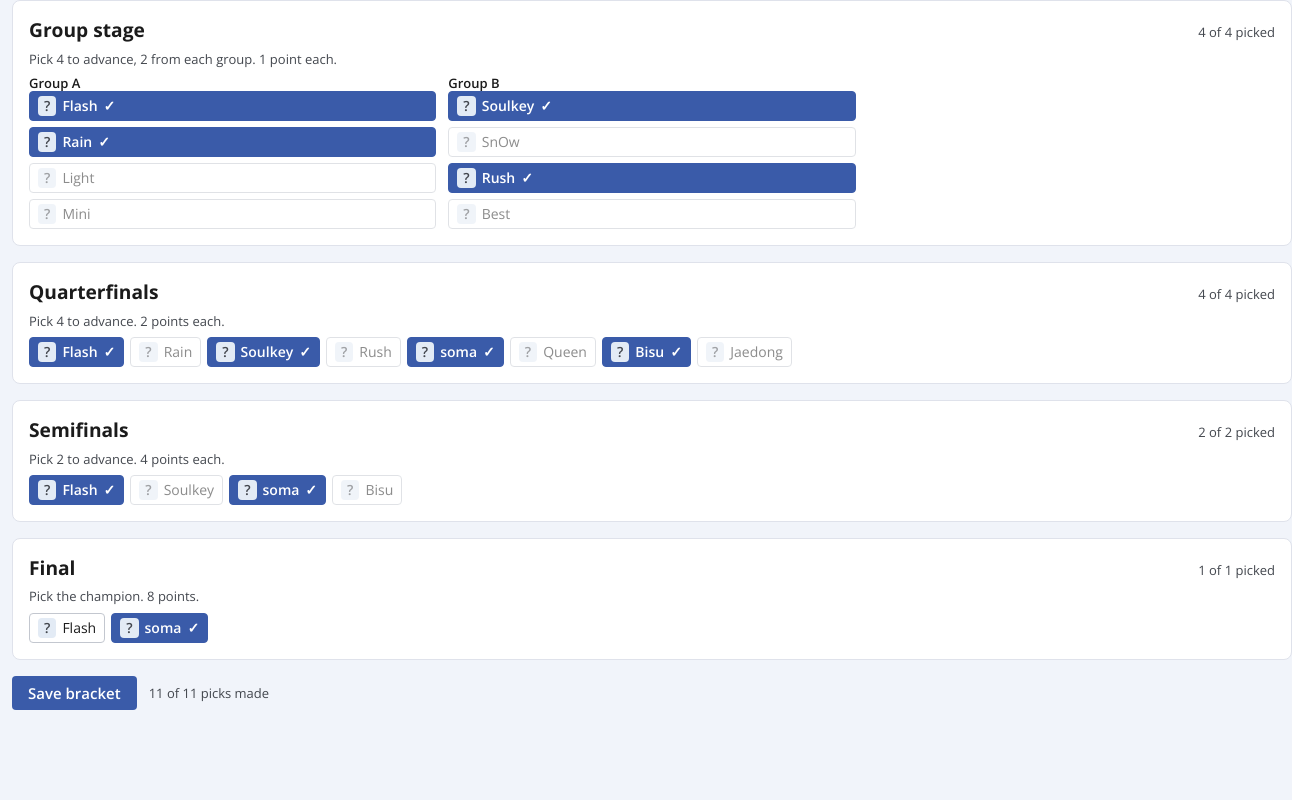
Scenario: BracketEditor › drops a player from every later round when they are unpicked
This screenshot has width=1292, height=800.
Expected: the text "11 of 11 picks made" is shown, [149,685,269,701]
Click the button "? Flash ✓" below "Group stage": {"x": 80, "y": 106} [29,91,436,121]
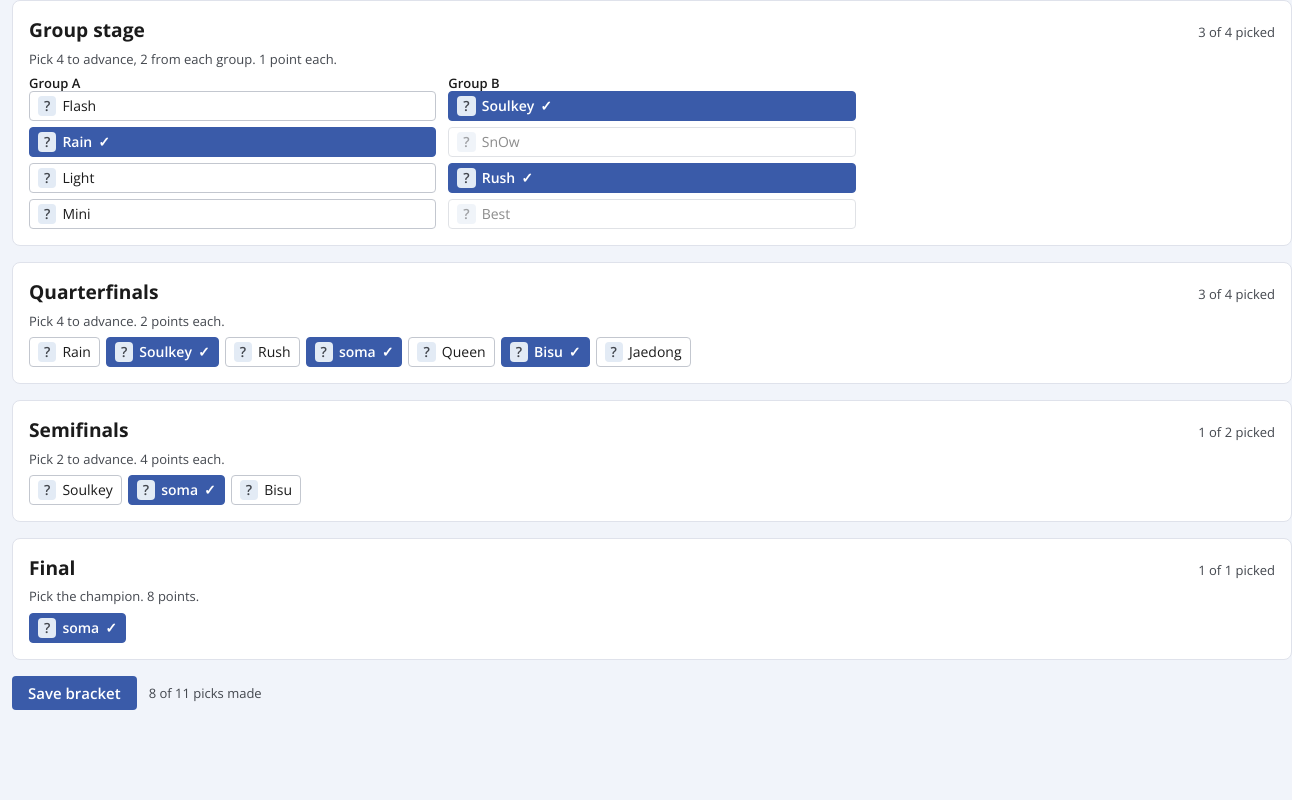
Now the text "8 of 11 picks made" is shown, box [149,685,262,701]
